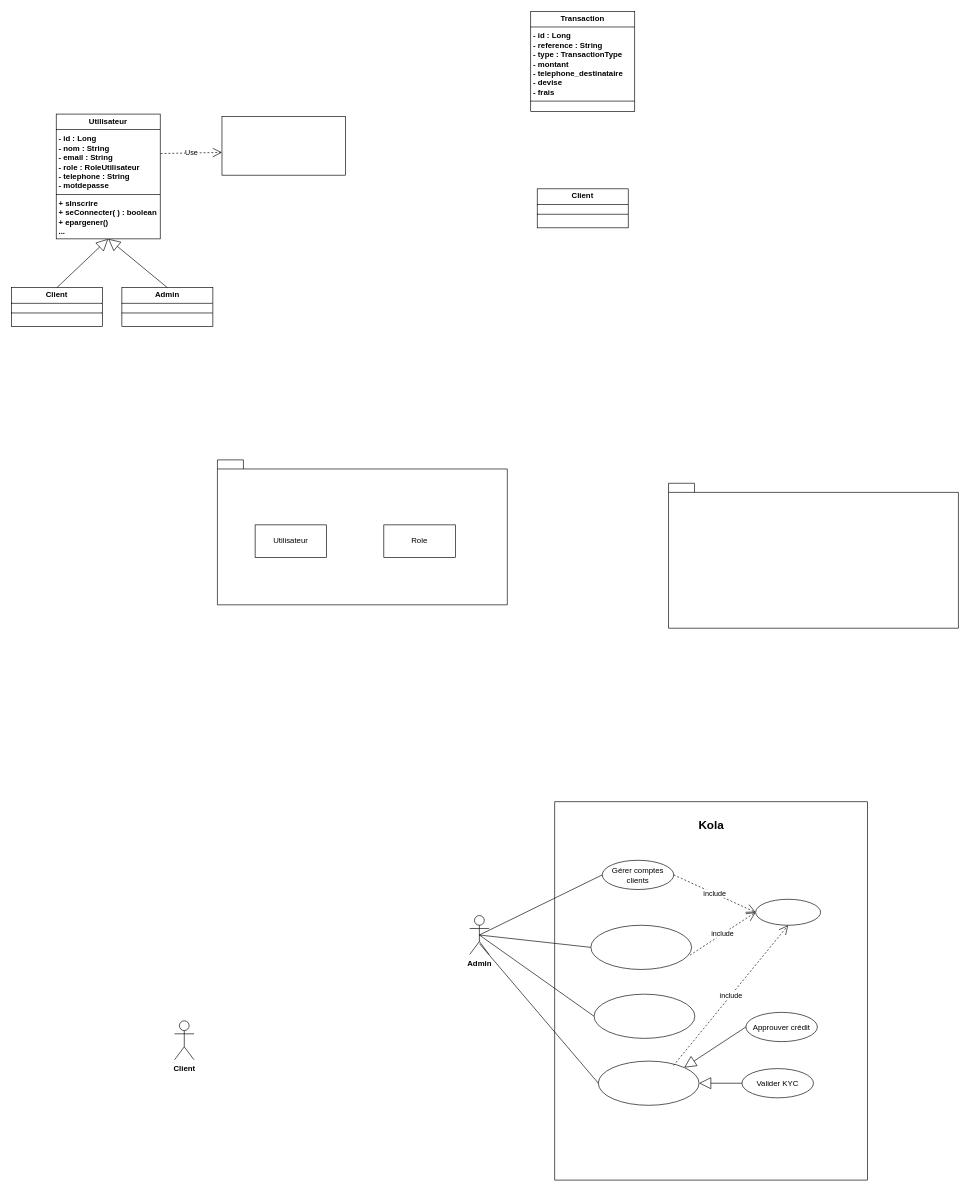
The diagram is 970 pixels wide and 1191 high, and some of its shapes have lost their labels. Here are the shapes that lost their labels. From the top down, the centre of each, then its label:
At point 283,145: "<<Enum>> RoleUtilisateur - CLIENT - ADMIN".
At point 788,912: "Athentification".
At point 641,947: "Gérer demande de crédit".
At point 644,1016: "Consulter les rapports".
At point 648,1082: "Traiter demandes".
